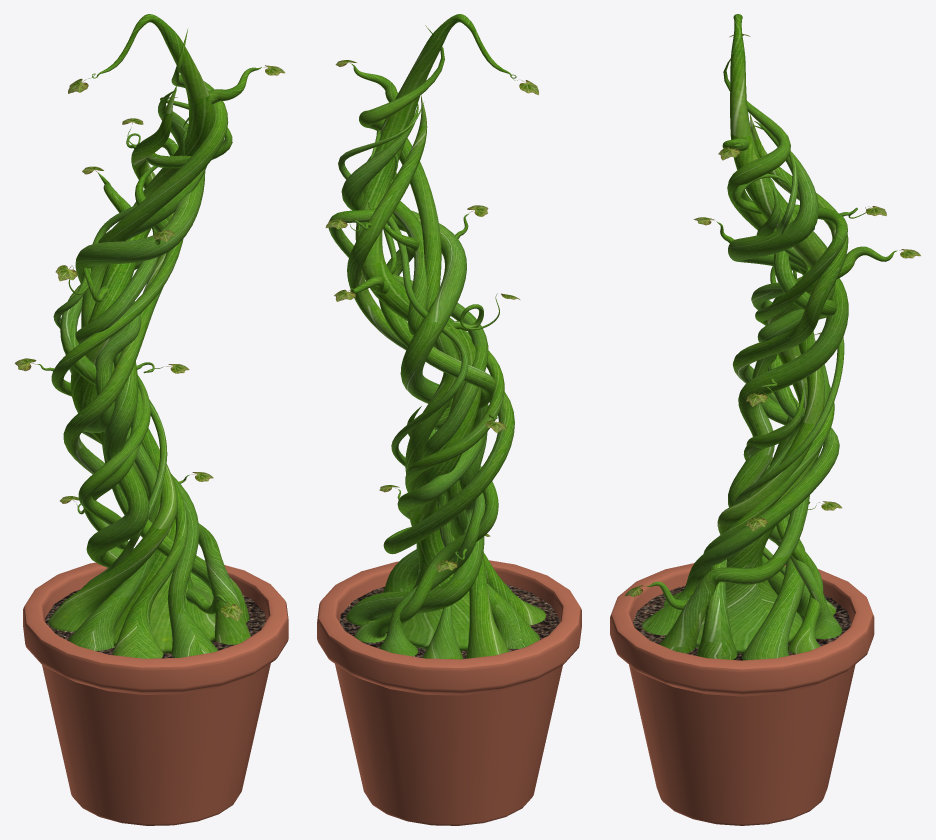
The model's file is beanstalk.glb.
3 renders of one model, left to right at view 1: azimuth 30°, elevation 25°; view 2: azimuth 150°, elevation 25°; view 3: azimuth 270°, elevation 25°, orthographic.
Visible parts, largest first — view 1: Pot, Stalk11, MainStalk, Stalk12, Stalk10, Stalk6, Stalk5, Stalk4, Stalk3, Stalk9, Stalk7, Stalk8 (+3 smaller); view 2: Pot, MainStalk, Stalk12, Stalk11, Stalk10, Stalk4, Stalk3, Stalk6, Stalk9, Stalk5, Stalk7, Stalk8 (+3 smaller); view 3: Pot, Stalk12, MainStalk, Stalk10, Stalk5, Stalk11, Stalk6, Stalk3, Stalk9, Stalk7, Stalk8, Dirt (+2 smaller).
Boxes of the visible parts, <box> form: Pot: <box>23,560,288,825</box>; Stalk11: <box>48,28,228,631</box>; MainStalk: <box>70,14,215,653</box>; Stalk12: <box>75,91,213,604</box>; Stalk10: <box>63,85,250,644</box>; Stalk6: <box>51,117,232,658</box>; Stalk5: <box>82,127,217,657</box>; Stalk4: <box>68,227,161,650</box>; Stalk3: <box>60,153,249,622</box>; Stalk9: <box>53,97,188,589</box>; Stalk7: <box>78,375,150,524</box>; Stalk8: <box>83,387,142,550</box>; Pot: <box>317,560,581,825</box>; MainStalk: <box>355,14,508,650</box>; Stalk12: <box>341,102,487,626</box>; Stalk11: <box>359,25,509,658</box>; Stalk10: <box>347,95,514,554</box>; Stalk4: <box>383,223,539,648</box>; Stalk3: <box>368,202,495,592</box>; Stalk6: <box>328,130,545,625</box>; Stalk9: <box>338,103,468,659</box>; Stalk5: <box>367,149,488,519</box>; Stalk7: <box>354,406,498,642</box>; Stalk8: <box>379,429,485,656</box>; Pot: <box>610,563,874,825</box>; Stalk12: <box>728,121,848,660</box>; MainStalk: <box>695,14,835,653</box>; Stalk10: <box>659,114,848,653</box>; Stalk5: <box>642,178,839,635</box>; Stalk11: <box>717,55,824,594</box>; Stalk6: <box>664,173,847,605</box>; Stalk3: <box>697,227,836,659</box>; Stalk9: <box>733,124,844,617</box>; Stalk7: <box>746,383,823,653</box>; Stalk8: <box>743,392,842,639</box>; Dirt: <box>633,586,851,660</box>.
Size of the model in its own units: 8.93 by 28.24 by 10.33.
4 materials, 3 textured.
